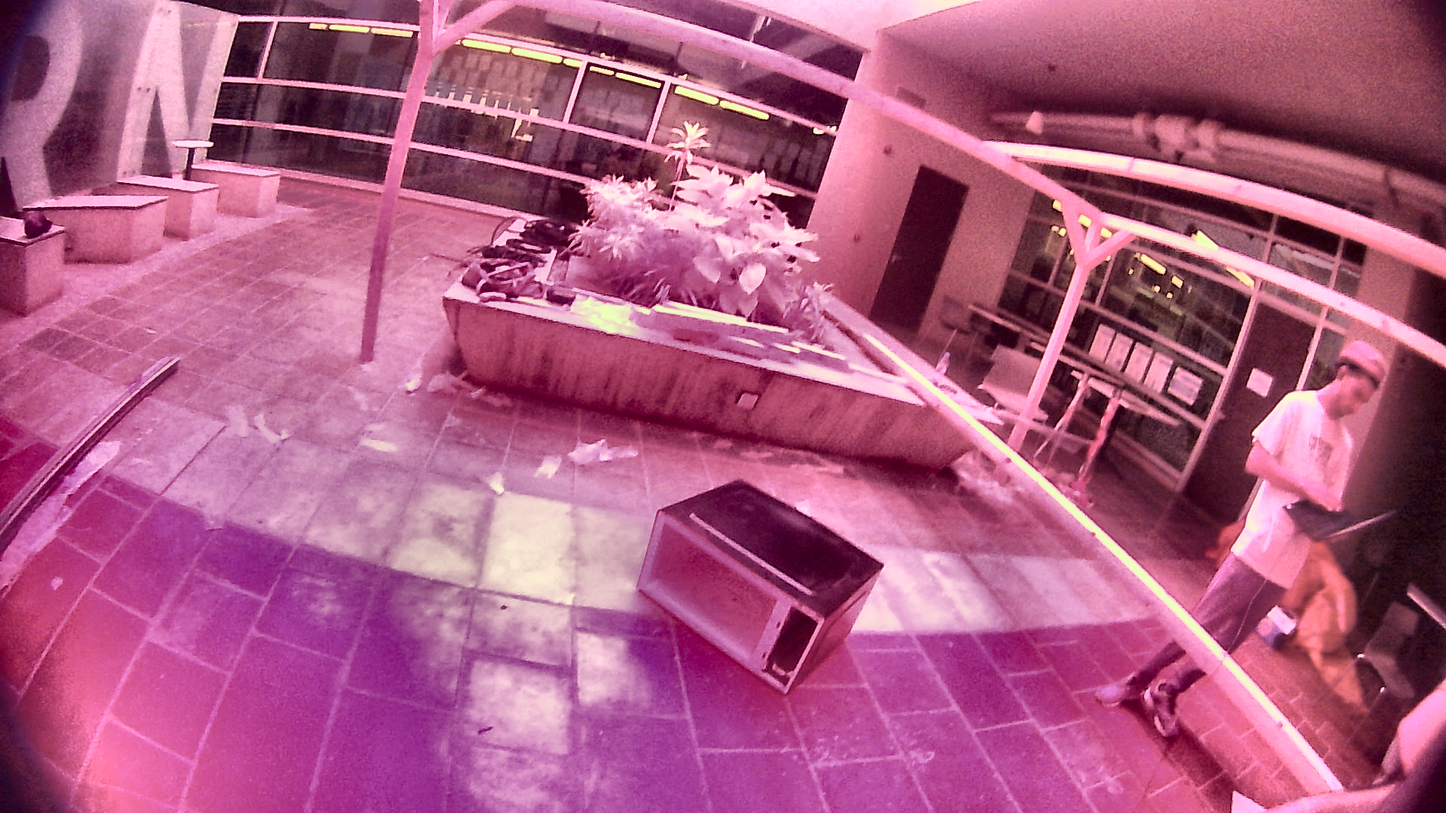MicroWave: (626, 469, 903, 709)
